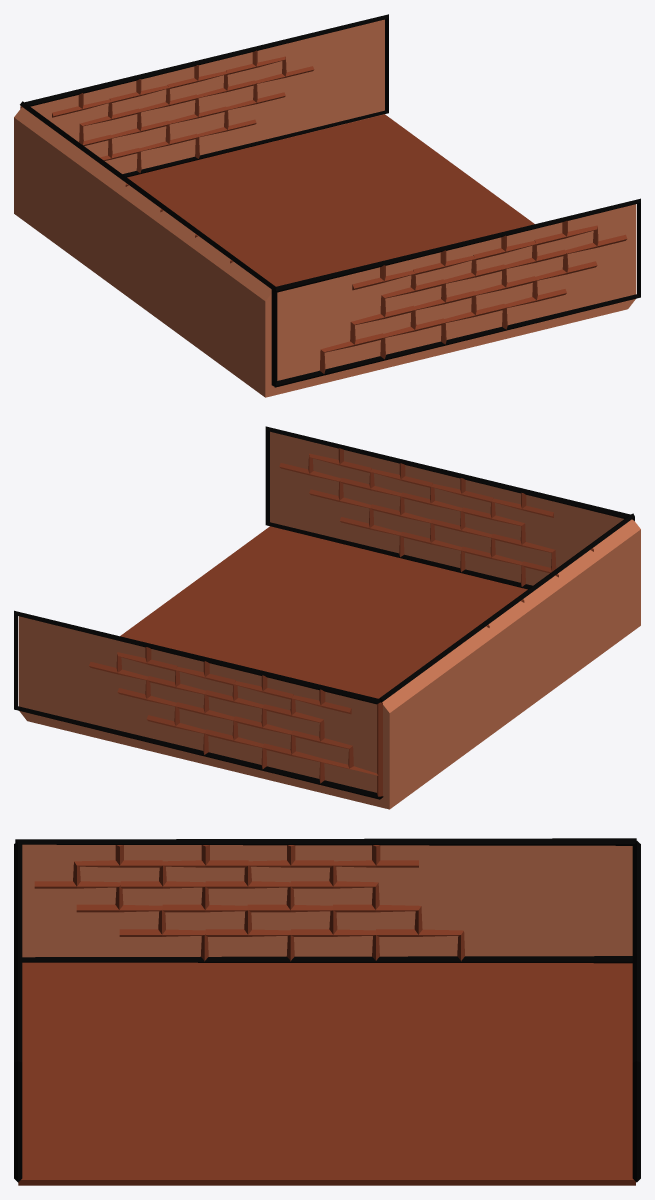
Rendered from DinerWall.fbx.
3 views of the same model, one above another, from view 1: azimuth 30°, elevation 25°; view 2: azimuth 150°, elevation 25°; view 3: azimuth 270°, elevation 25° (orthographic). The views are drawn at different scales.
Visible parts, largest first — view 1: Plane, brick2, back wall; view 2: Plane, brick2, back wall; view 3: Plane, back wall, brick2.
Boxes of the visible parts, bbox=[...] form: Plane: bbox=[14, 19, 636, 397]; brick2: bbox=[20, 50, 627, 373]; back wall: bbox=[20, 14, 640, 387]; Plane: bbox=[18, 431, 640, 809]; brick2: bbox=[89, 448, 593, 796]; back wall: bbox=[14, 426, 634, 799]; Plane: bbox=[18, 844, 635, 1185]; back wall: bbox=[14, 838, 640, 1182]; brick2: bbox=[34, 845, 464, 961].
Size of the model in its own units: 1283 by 360 by 1511.
